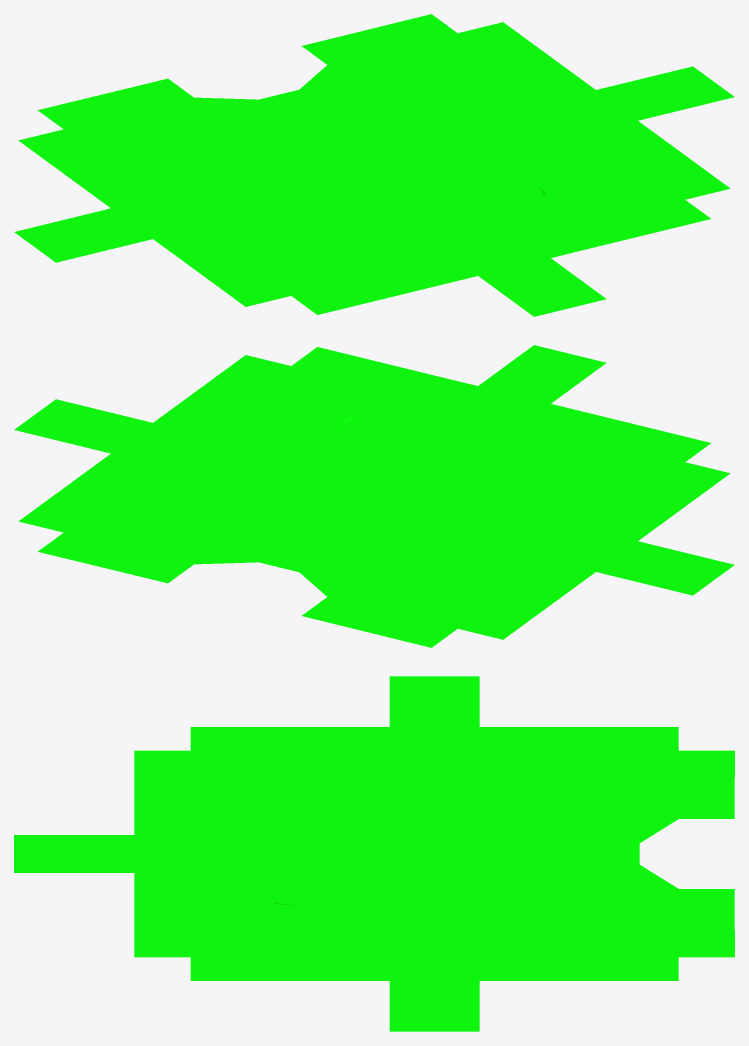
File: s04b_td2-floor.glb
3 views of the same model, one above another, from view 1: azimuth 30°, elevation 25°; view 2: azimuth 150°, elevation 25°; view 3: azimuth 270°, elevation 25° (orthographic). The views are drawn at different scales.
Visible parts, largest first — view 1: collision_floor-colonly; view 2: collision_floor-colonly; view 3: collision_floor-colonly.
Boxes of the visible parts, <box> form: collision_floor-colonly: <box>14,14,734,316</box>; collision_floor-colonly: <box>14,345,734,647</box>; collision_floor-colonly: <box>14,676,734,1031</box>.
Bounding box in the file's own units: 56 × 0.248 × 47.99.
